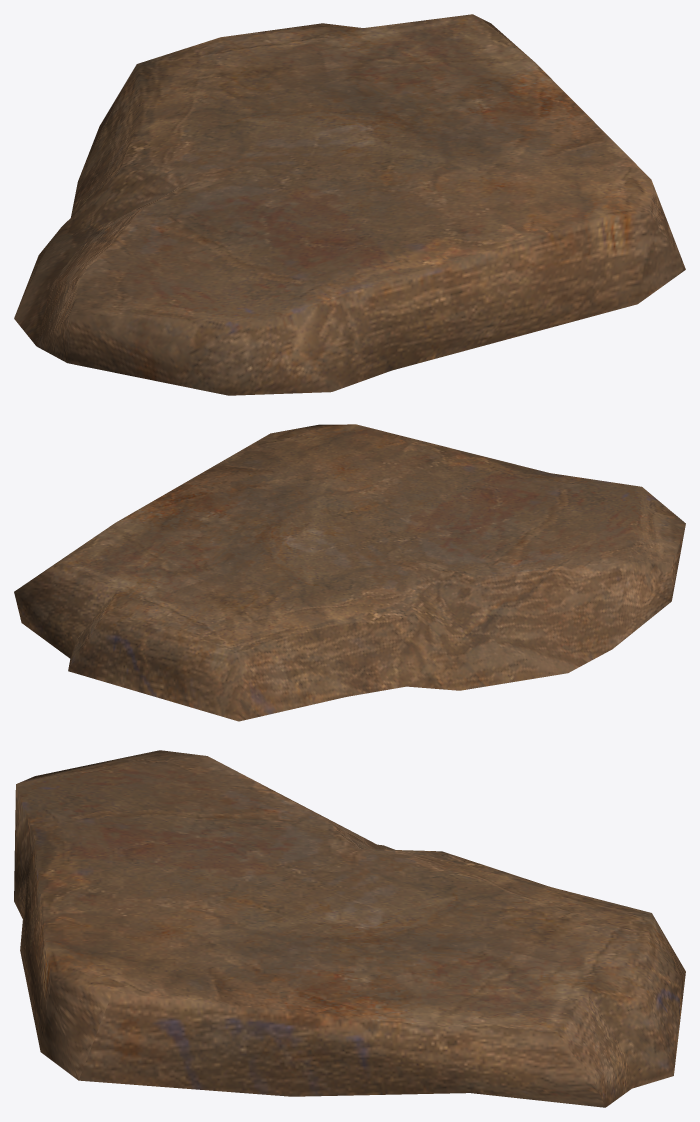
File: Rock_Shales_05_L1.fbx
3 renders of one model, top to bottom at view 1: azimuth 30°, elevation 25°; view 2: azimuth 150°, elevation 25°; view 3: azimuth 270°, elevation 25°, orthographic. The views are drawn at different scales.
Visible parts, largest first — view 1: polySurface239; view 2: polySurface239; view 3: polySurface239.
Part boxes in pixels (box(x1,y1,x2,y2)): polySurface239: box(14, 14, 685, 395); polySurface239: box(14, 424, 685, 721); polySurface239: box(14, 750, 685, 1107).
Bounding box in the file's own units: 98.89 × 15.99 × 92.
